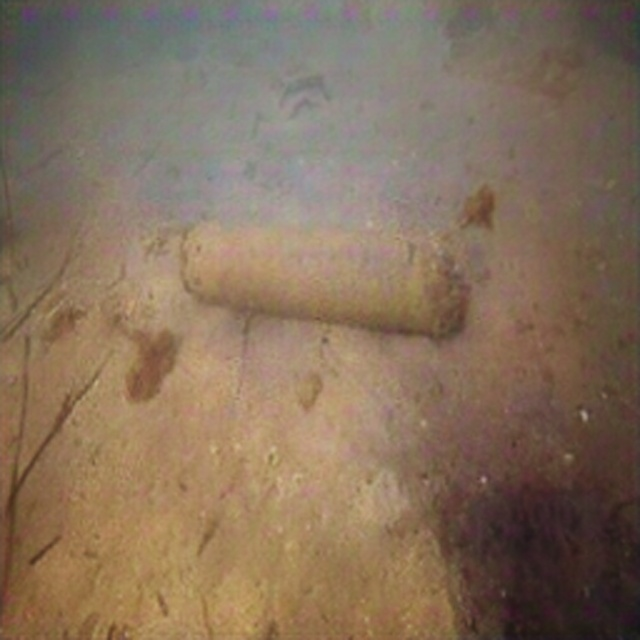mine: (178, 219, 466, 336)
